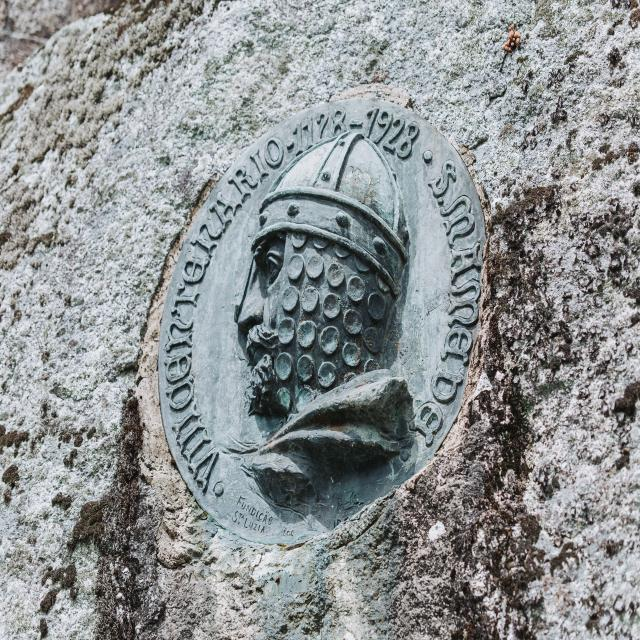Metal: (157, 108, 486, 532)
